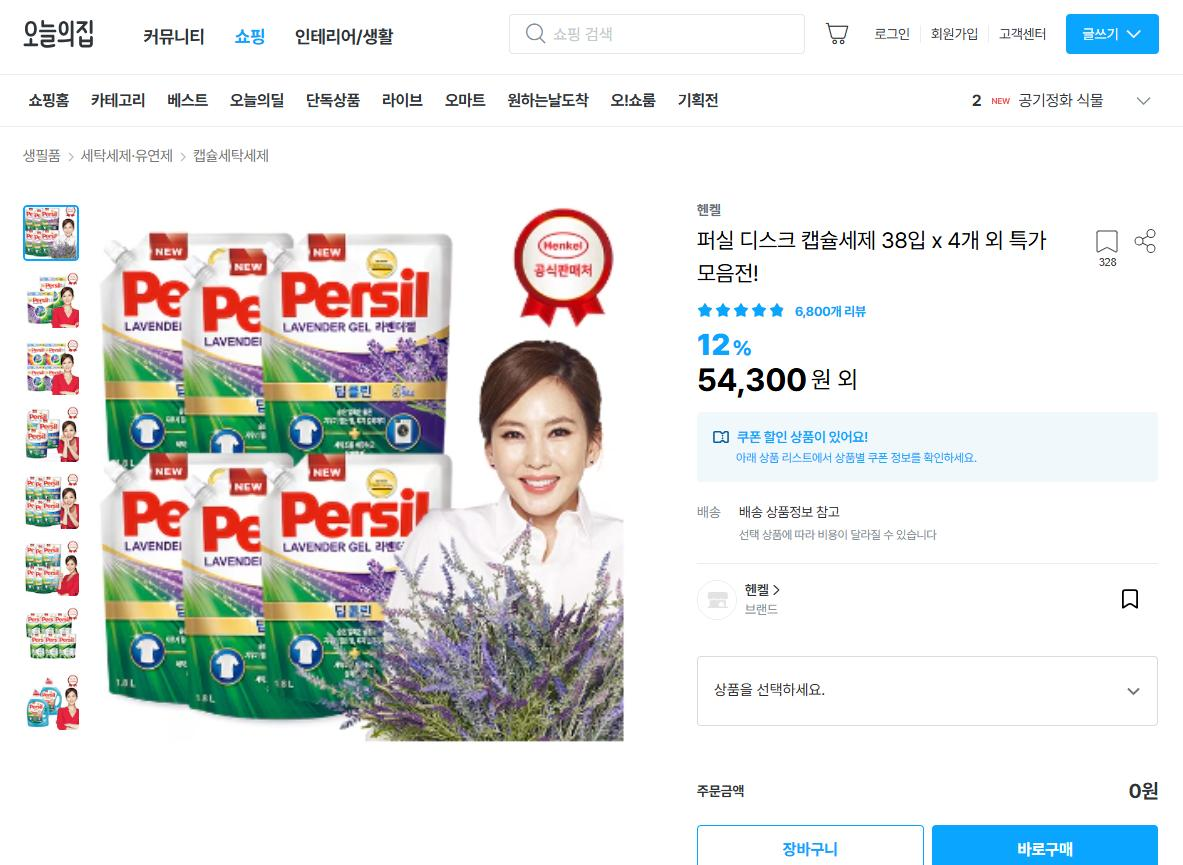button: (695, 824, 923, 865), (932, 824, 1159, 865), (290, 18, 396, 60), (1064, 10, 1162, 54), (140, 18, 214, 59), (499, 88, 596, 117), (992, 14, 1058, 56), (300, 83, 373, 117), (923, 17, 985, 53), (1089, 223, 1127, 272), (438, 82, 495, 113), (228, 85, 292, 112), (866, 17, 918, 48), (158, 87, 218, 113), (673, 83, 723, 114), (231, 18, 277, 51), (86, 90, 154, 111), (815, 18, 857, 50), (380, 88, 427, 114), (608, 88, 662, 110), (1131, 222, 1164, 257), (1115, 582, 1144, 613)
checkbox: (696, 654, 1160, 729), (955, 78, 1171, 118)
input_field: (507, 13, 807, 55)
